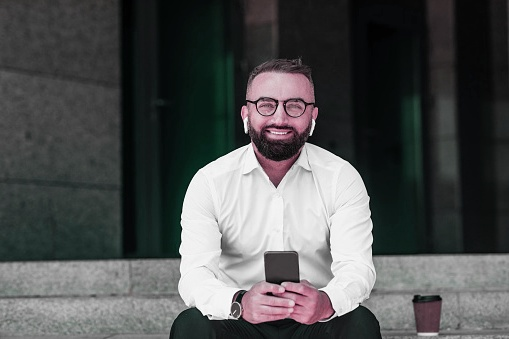earphone: (309, 107, 320, 131), (241, 106, 250, 129)
